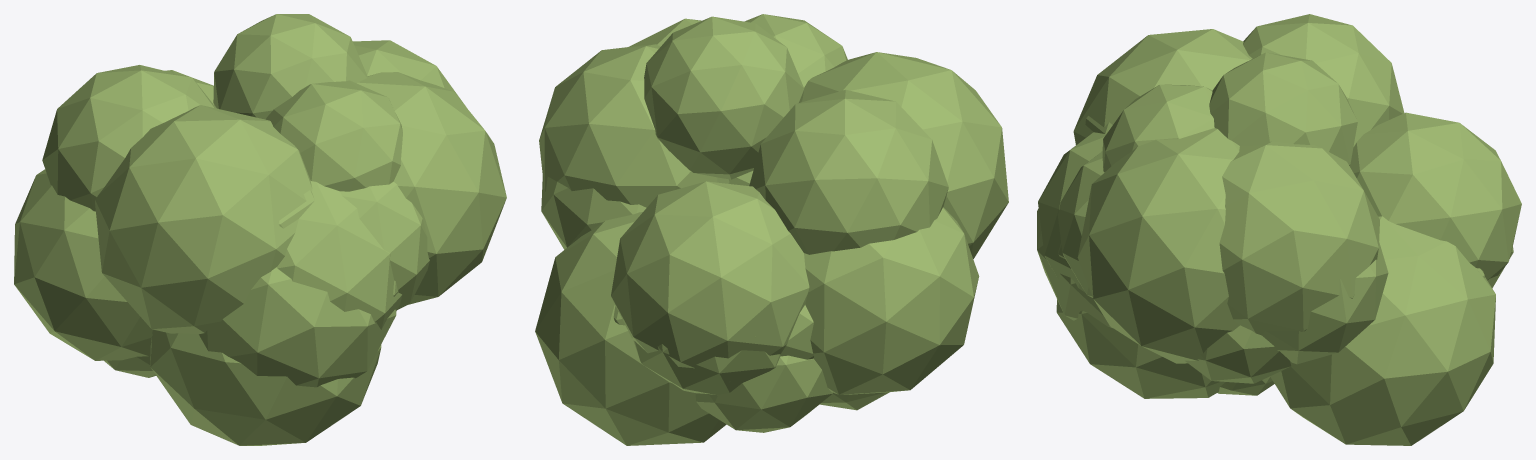
The model's file is Bush_Field_3.fbx.
3 views of the same model, side by side, from view 1: azimuth 30°, elevation 25°; view 2: azimuth 150°, elevation 25°; view 3: azimuth 270°, elevation 25° (orthographic). The views are drawn at different scales.
Parts seen in each view (by area): view 1: Bush_2; view 2: Bush_2; view 3: Bush_2.
Part boxes in pixels (box(x1,y1,x2,y2)): Bush_2: box(14, 14, 506, 445); Bush_2: box(535, 14, 1008, 445); Bush_2: box(1037, 14, 1521, 445).
Size of the model in its own units: 124 by 105 by 124.
